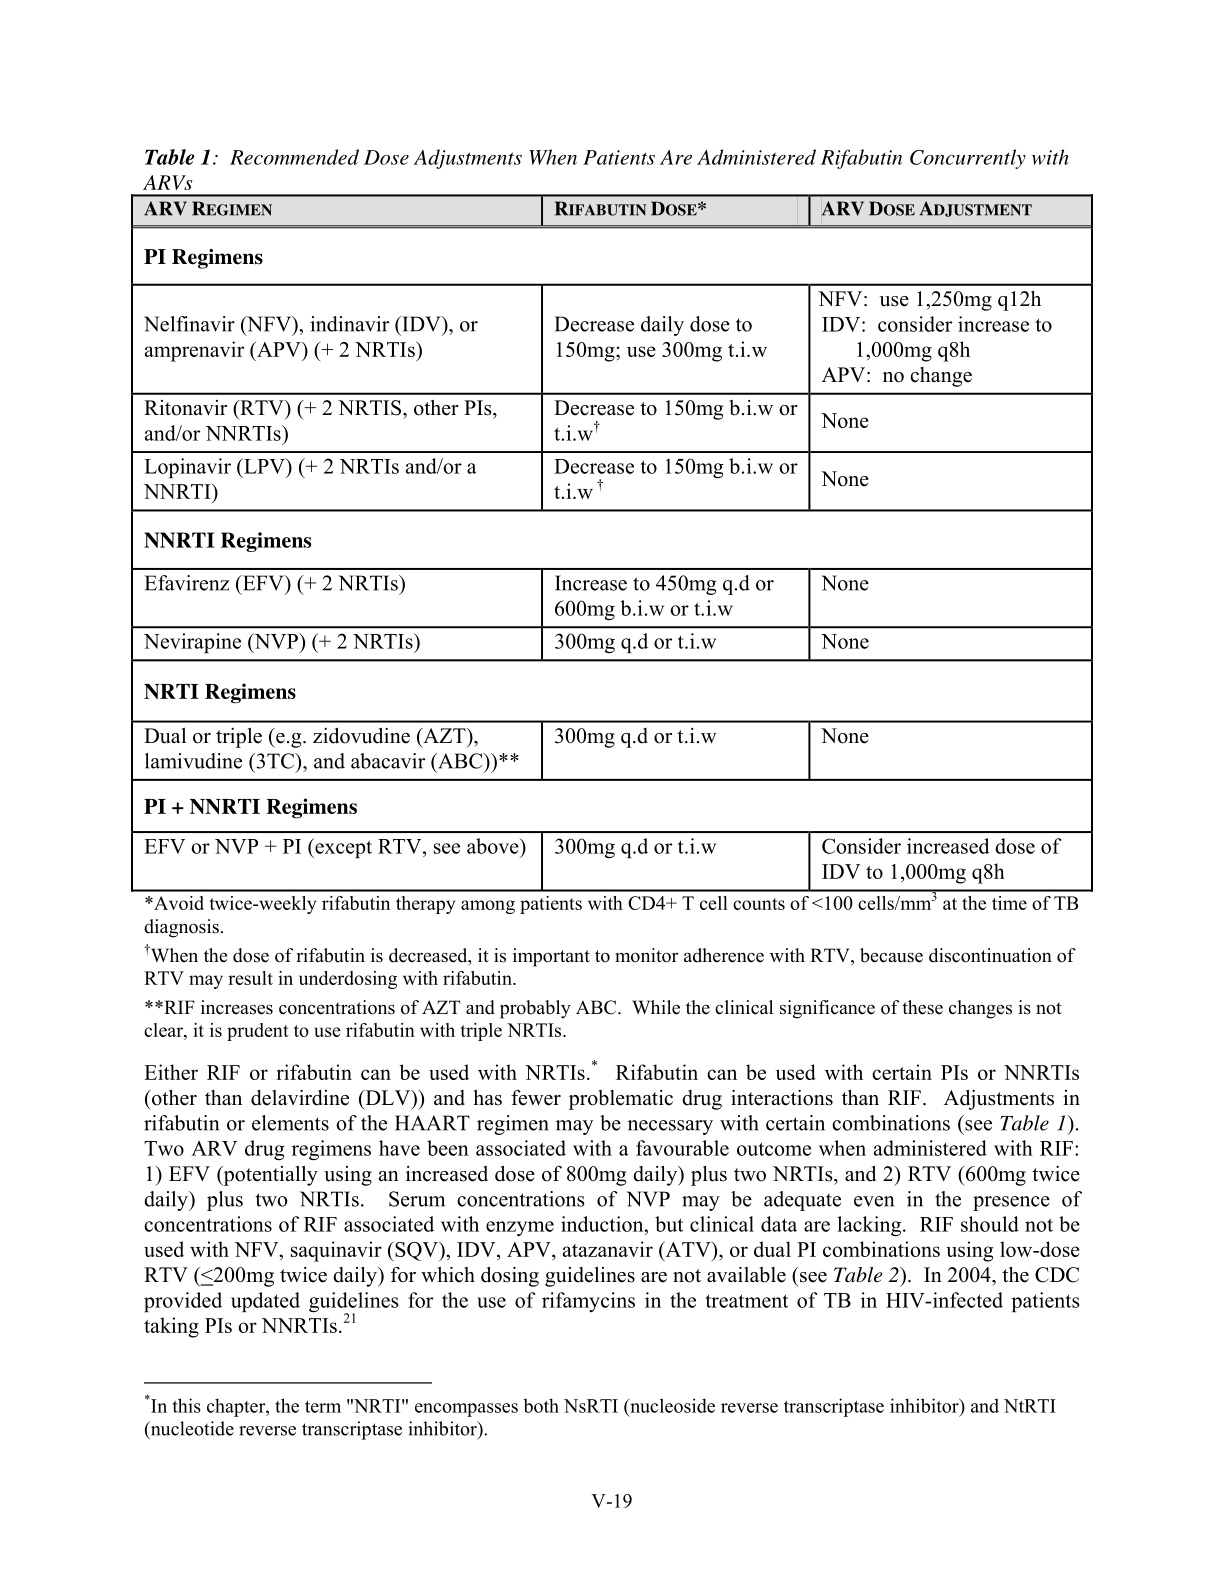merged_cells: (130, 193, 1094, 894)
